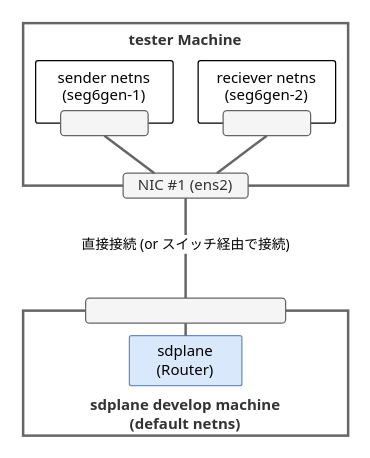
The diagram is 370 pixels wide and 458 high, and some of its shapes have lost their labels. The shapes that lost their labels are listed below. From the top down, each one's centre as x and y in pixels, then its label:
(x=103, y=122): ens2.300
(x=266, y=122): ens2.400
(x=185, y=310): NIC #2 (sdplane port0)
